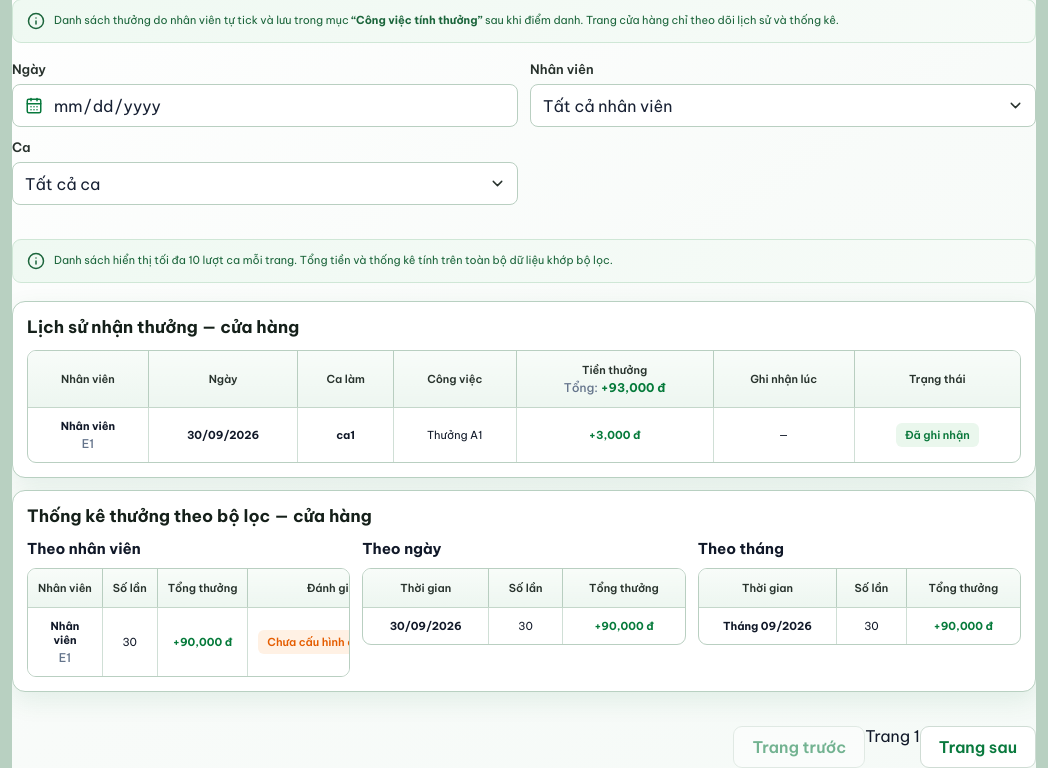
Test: loads exactly the first page, then requests next/back/filter pages only after interaction
(page scrolled)
Expected: the text "Thưởng A1" is shown, [393,408,516,462]
Click the button "Trang sau" at (978, 747), box [920,726,1036,767]
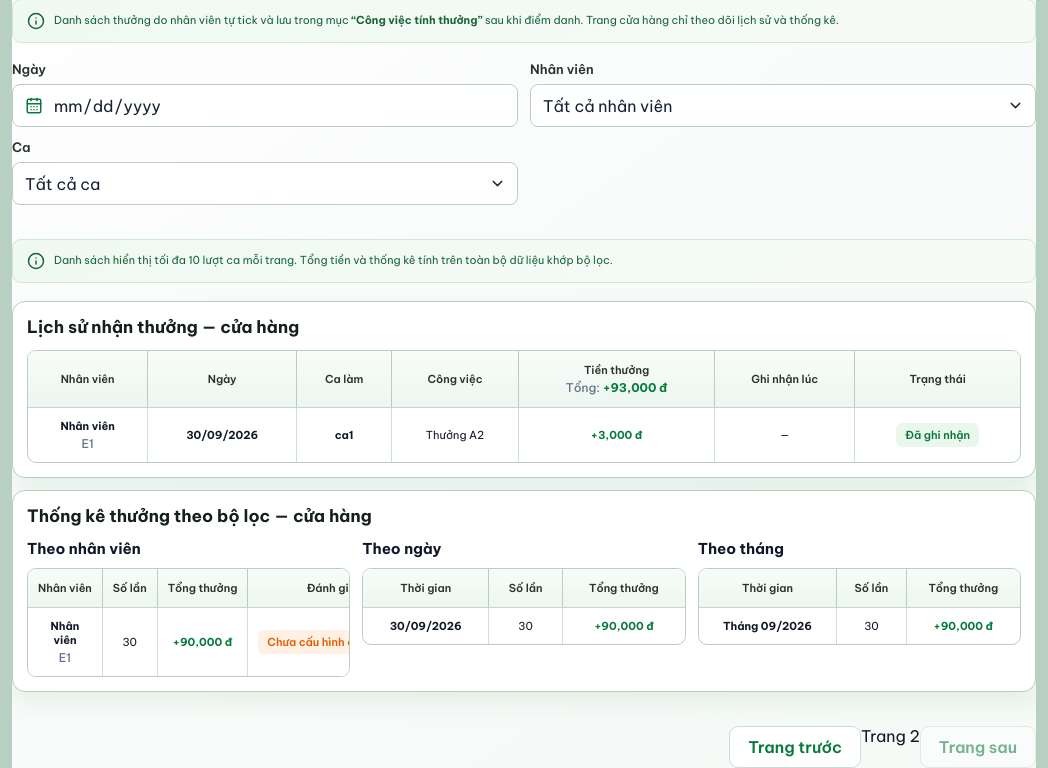
Expected: the text "Thưởng A2" is shown, [392,408,518,462]
Expected: the text "Thưởng A1" is gone
Type "2026-09-01" into the date field named "Ngày nhận thưởng" at (278, 106), box [52,85,505,126]
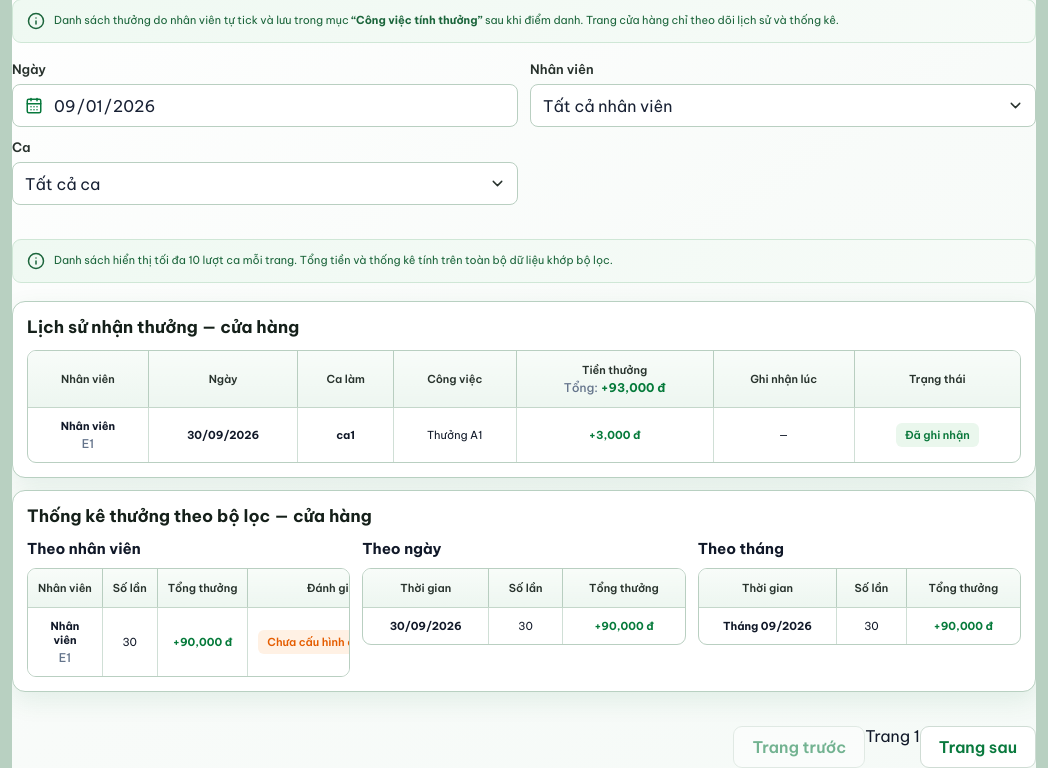
Expected: the button "Trang trước" is disabled, [734,726,865,767]
